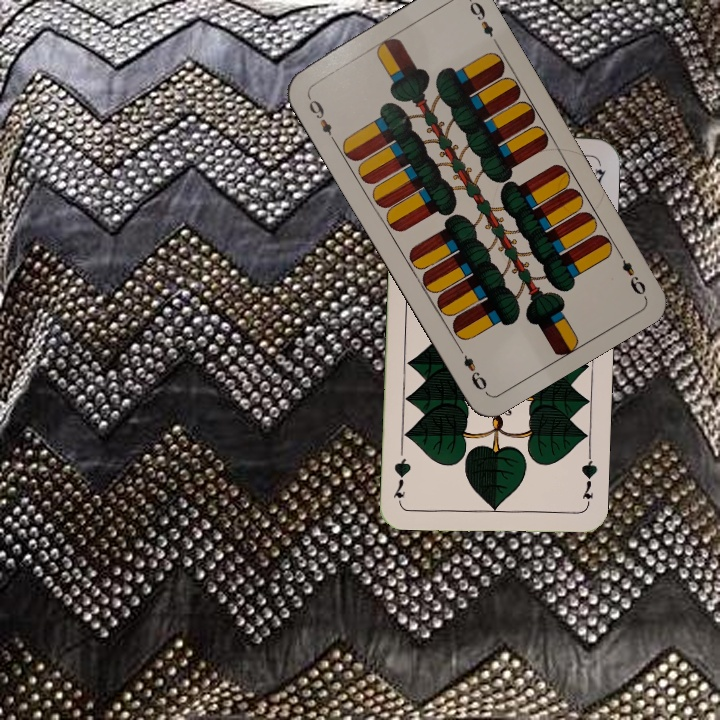E9: (303, 91, 339, 146), (612, 245, 649, 298)
G7: (578, 451, 600, 510)
